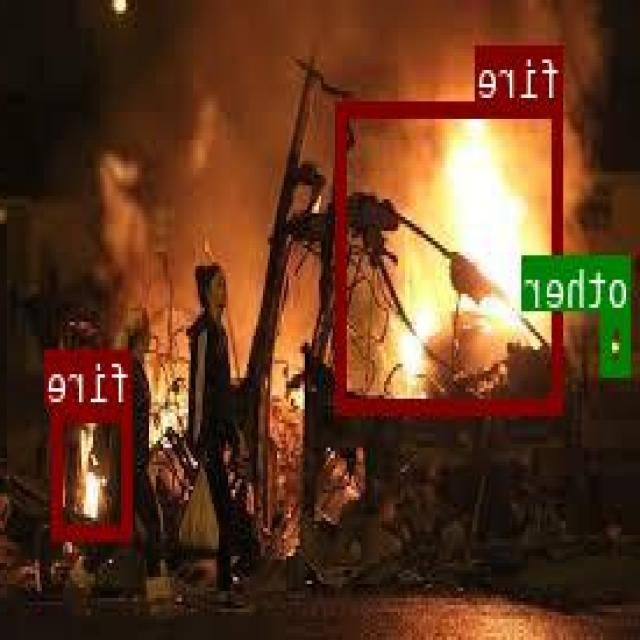fire: (338, 98, 565, 412), (55, 405, 133, 538)
other: (604, 309, 632, 372)
